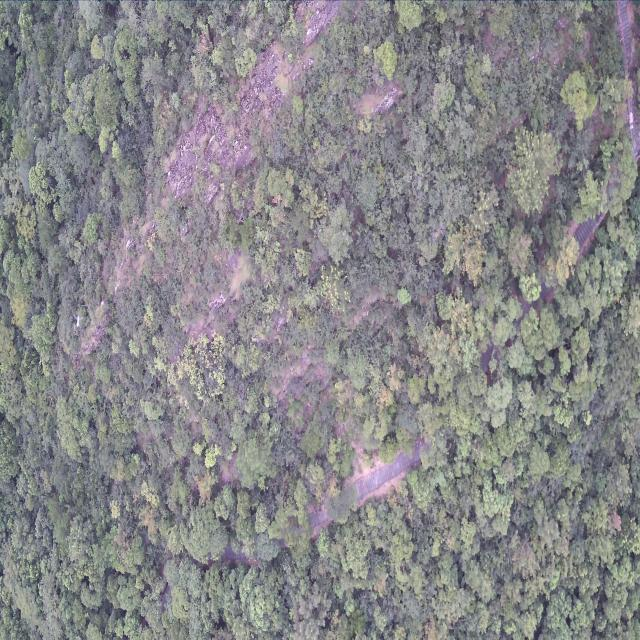drone: (74, 313, 82, 329)
